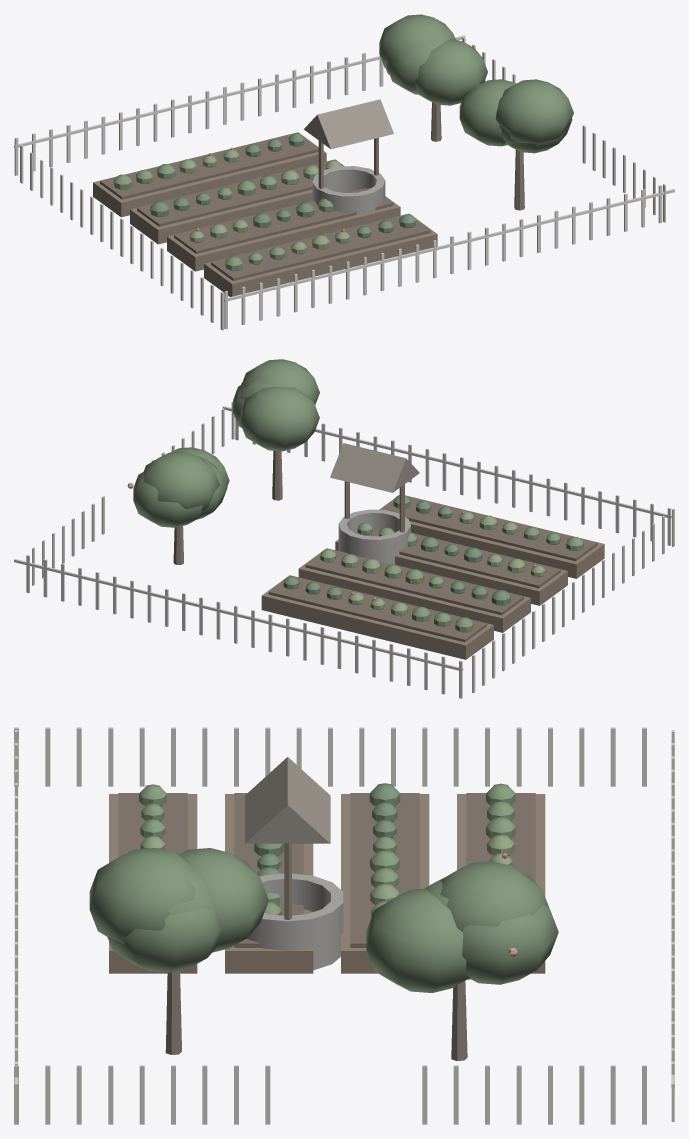
The model's file is garden_2.gltf.
3 renders of one model, top to bottom at view 1: azimuth 30°, elevation 25°; view 2: azimuth 150°, elevation 25°; view 3: azimuth 270°, elevation 25°, orthographic. The views are drawn at different scales.
Visible parts, largest first — view 1: Body; view 2: Body; view 3: Body.
Part boxes in pixels (x1,y1,x2,y2): Body: [14, 14, 674, 330]; Body: [14, 359, 674, 698]; Body: [14, 727, 674, 1124].
Size of the model in its own units: 11.47 by 3.11 by 9.26.
